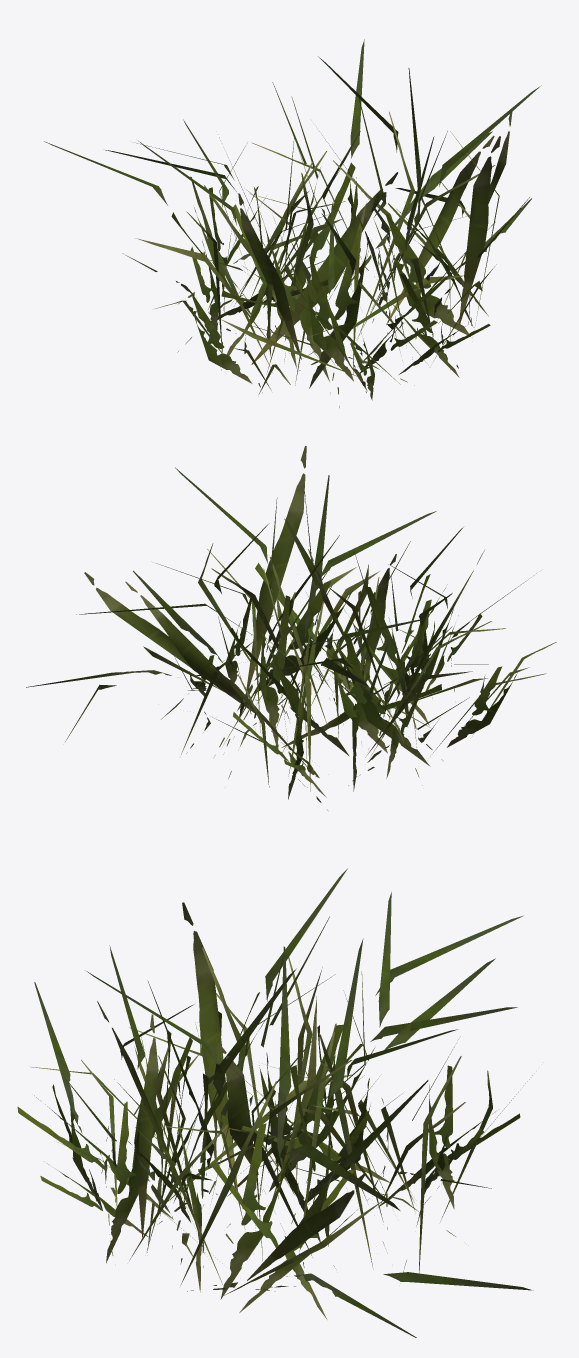
3 renders of one model, top to bottom at view 1: azimuth 30°, elevation 25°; view 2: azimuth 150°, elevation 25°; view 3: azimuth 270°, elevation 25°, orthographic. The views are drawn at different scales.
Visible parts, largest first — view 1: grass_medium_01__a_lod1; view 2: grass_medium_01__a_lod1; view 3: grass_medium_01__a_lod1.
Boxes of the visible parts, box(x1,y1,x2,y2) form: grass_medium_01__a_lod1: box(44, 39, 541, 407); grass_medium_01__a_lod1: box(26, 446, 556, 810); grass_medium_01__a_lod1: box(17, 868, 533, 1337).
Size of the model in its own units: 0.3417 by 0.1848 by 0.2786.
Materials: 1 (1 with a texture image).
